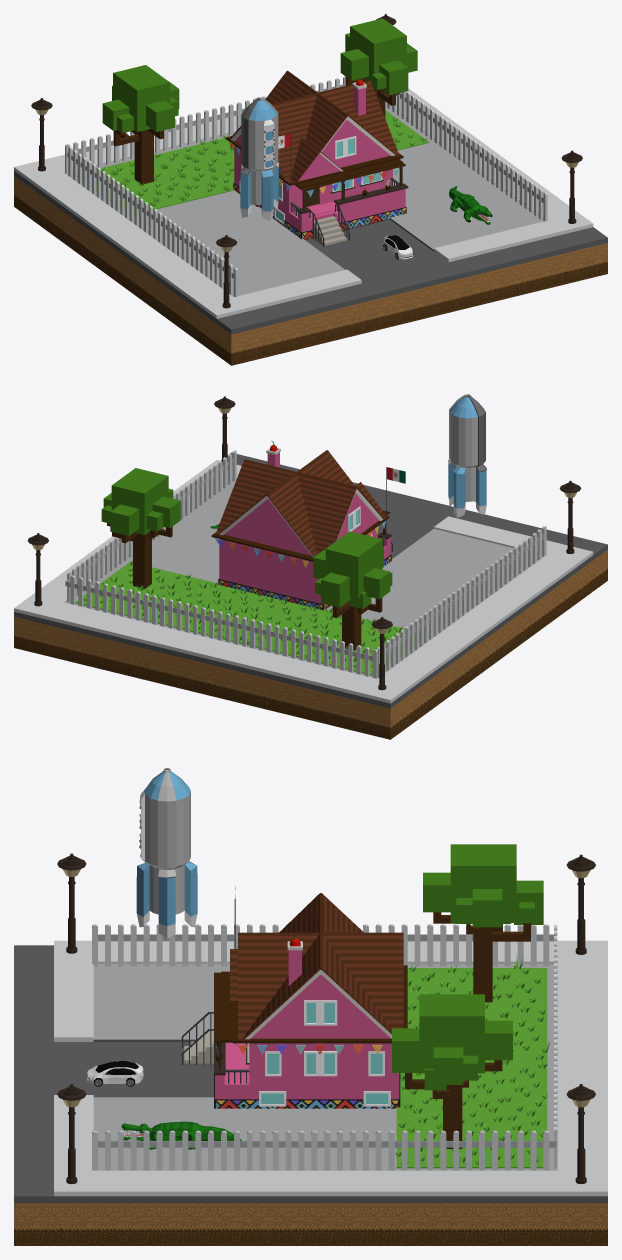
The picture shows the model from 3 angles, top to bottom: view 1: azimuth 30°, elevation 25°; view 2: azimuth 150°, elevation 25°; view 3: azimuth 270°, elevation 25°; orthographic projection. The views are drawn at different scales.
Visible parts, largest first — view 1: Cube.004, Cube.1005, OBJRANDOM_ROCKETSHIP, ANIMAL_COCODRILO, VEHICLES_TESLA; view 2: Cube.004, Cube.1005, OBJRANDOM_ROCKETSHIP; view 3: Cube.004, Cube.1005, OBJRANDOM_ROCKETSHIP, ANIMAL_COCODRILO, VEHICLES_TESLA.
Part boxes in pixels (x1,y1,x2,y2): Cube.004: [14, 14, 607, 365]; Cube.1005: [226, 70, 408, 246]; OBJRANDOM_ROCKETSHIP: [240, 97, 279, 220]; ANIMAL_COCODRILO: [449, 186, 492, 224]; VEHICLES_TESLA: [383, 235, 413, 259]; Cube.004: [14, 396, 607, 739]; Cube.1005: [211, 440, 405, 610]; OBJRANDOM_ROCKETSHIP: [448, 394, 486, 517]; Cube.004: [14, 844, 607, 1245]; Cube.1005: [181, 886, 407, 1108]; OBJRANDOM_ROCKETSHIP: [136, 768, 197, 938]; ANIMAL_COCODRILO: [121, 1121, 241, 1149]; VEHICLES_TESLA: [87, 1061, 143, 1086].
Bounding box in the file's own units: 4000 × 2170 × 4000.
Materials: 74 (5 with a texture image).
